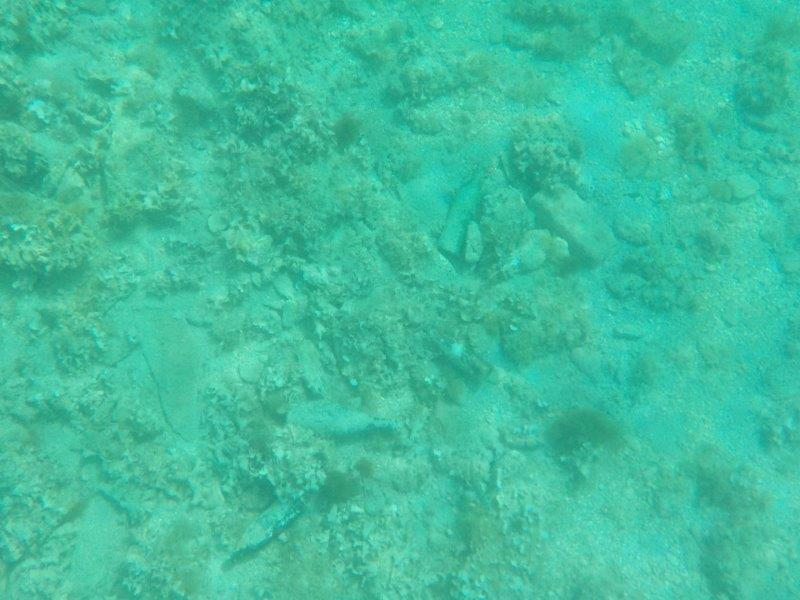bottle: (224, 486, 310, 564), (435, 164, 491, 266), (284, 400, 403, 443)
